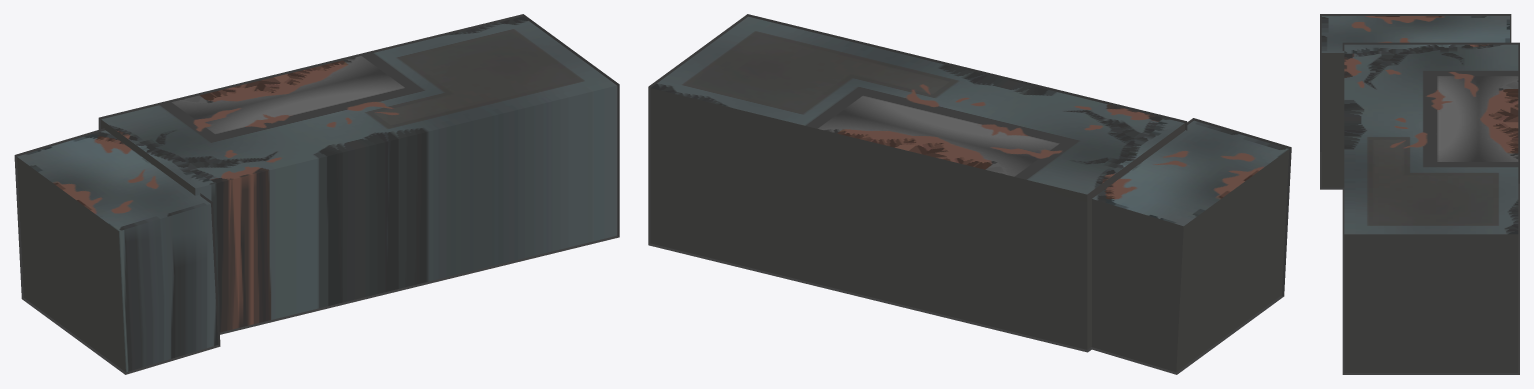
File: Building_AncientTableMachining.glb
3 renders of one model, left to right at view 1: azimuth 30°, elevation 25°; view 2: azimuth 150°, elevation 25°; view 3: azimuth 270°, elevation 25°, orthographic. The views are drawn at different scales.
Parts seen in each view (by area): view 1: AncientTableMachining, Outline; view 2: AncientTableMachining, Outline; view 3: AncientTableMachining, Outline.
Boxes of the visible parts, x1,y1,x2,y2 form: AncientTableMachining: (17, 16, 617, 372); Outline: (14, 14, 619, 374); AncientTableMachining: (650, 16, 1289, 372); Outline: (648, 14, 1291, 374); AncientTableMachining: (1321, 16, 1518, 372); Outline: (1320, 14, 1519, 374).
Bounding box in the file's own units: 3.04 × 0.8964 × 1.11.
2 materials, 1 textured.
